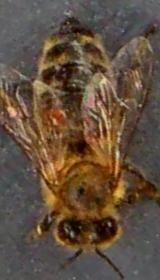varroa_mite: (36, 106, 74, 134)
